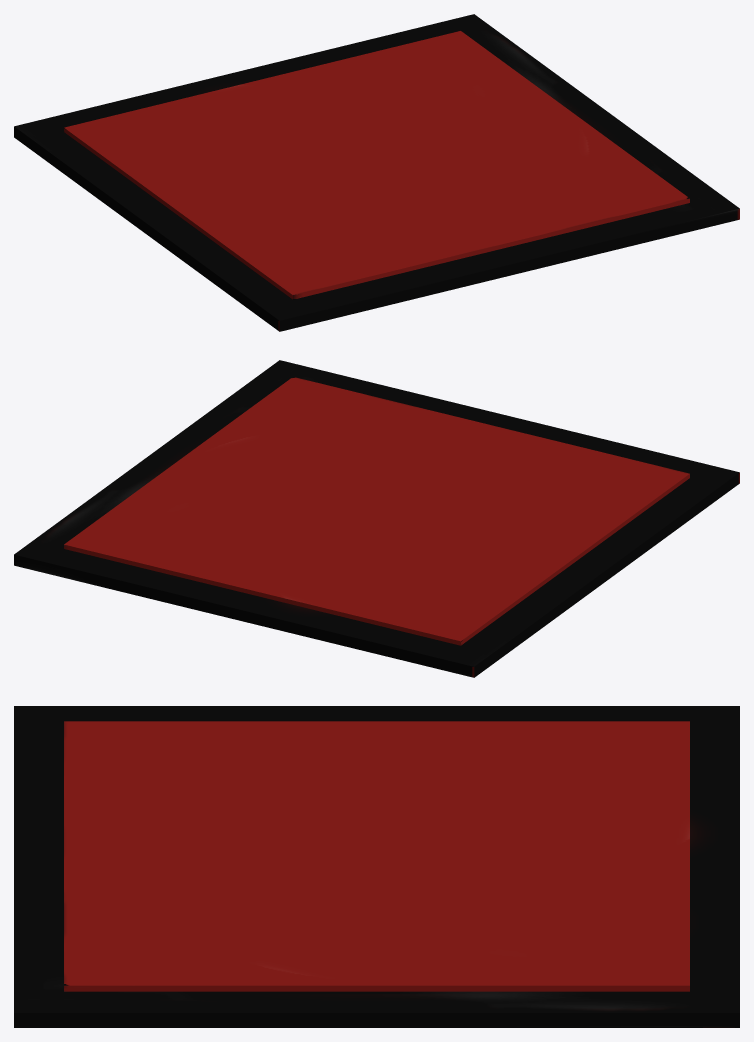
Rendered from PressurePlate.fbx.
The picture shows the model from 3 angles, top to bottom: view 1: azimuth 30°, elevation 25°; view 2: azimuth 150°, elevation 25°; view 3: azimuth 270°, elevation 25°; orthographic projection. The views are drawn at different scales.
Visible parts, largest first — view 1: Cube; view 2: Cube; view 3: Cube.
Boxes of the visible parts, x1=… form: Cube: x1=14, y1=14, x2=739, y2=331; Cube: x1=14, y1=360, x2=739, y2=677; Cube: x1=14, y1=706, x2=739, y2=1027.
Size of the model in its own units: 200 by 6.4 by 200.
Materials: 1 (1 with a texture image).
